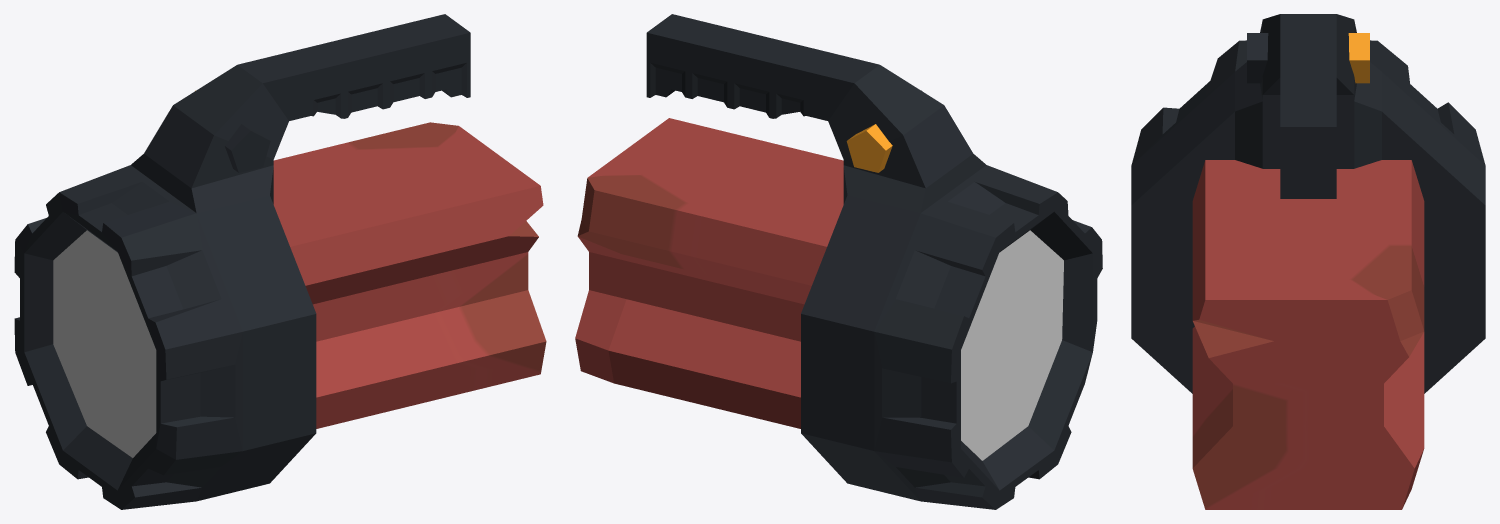
The model's file is SM_Flashlight.gltf.
3 views of the same model, side by side, from view 1: azimuth 30°, elevation 25°; view 2: azimuth 150°, elevation 25°; view 3: azimuth 270°, elevation 25° (orthographic). The views are drawn at different scales.
Visible parts, largest first — view 1: SM_Flashlight; view 2: SM_Flashlight; view 3: SM_Flashlight.
Boxes of the visible parts, box(x1,y1,x2,y2) form: SM_Flashlight: box(14, 14, 546, 509); SM_Flashlight: box(575, 14, 1102, 509); SM_Flashlight: box(1131, 14, 1485, 509).
Size of the model in its own units: 0.3099 by 0.28 by 0.2112.
2 materials, 1 textured.
